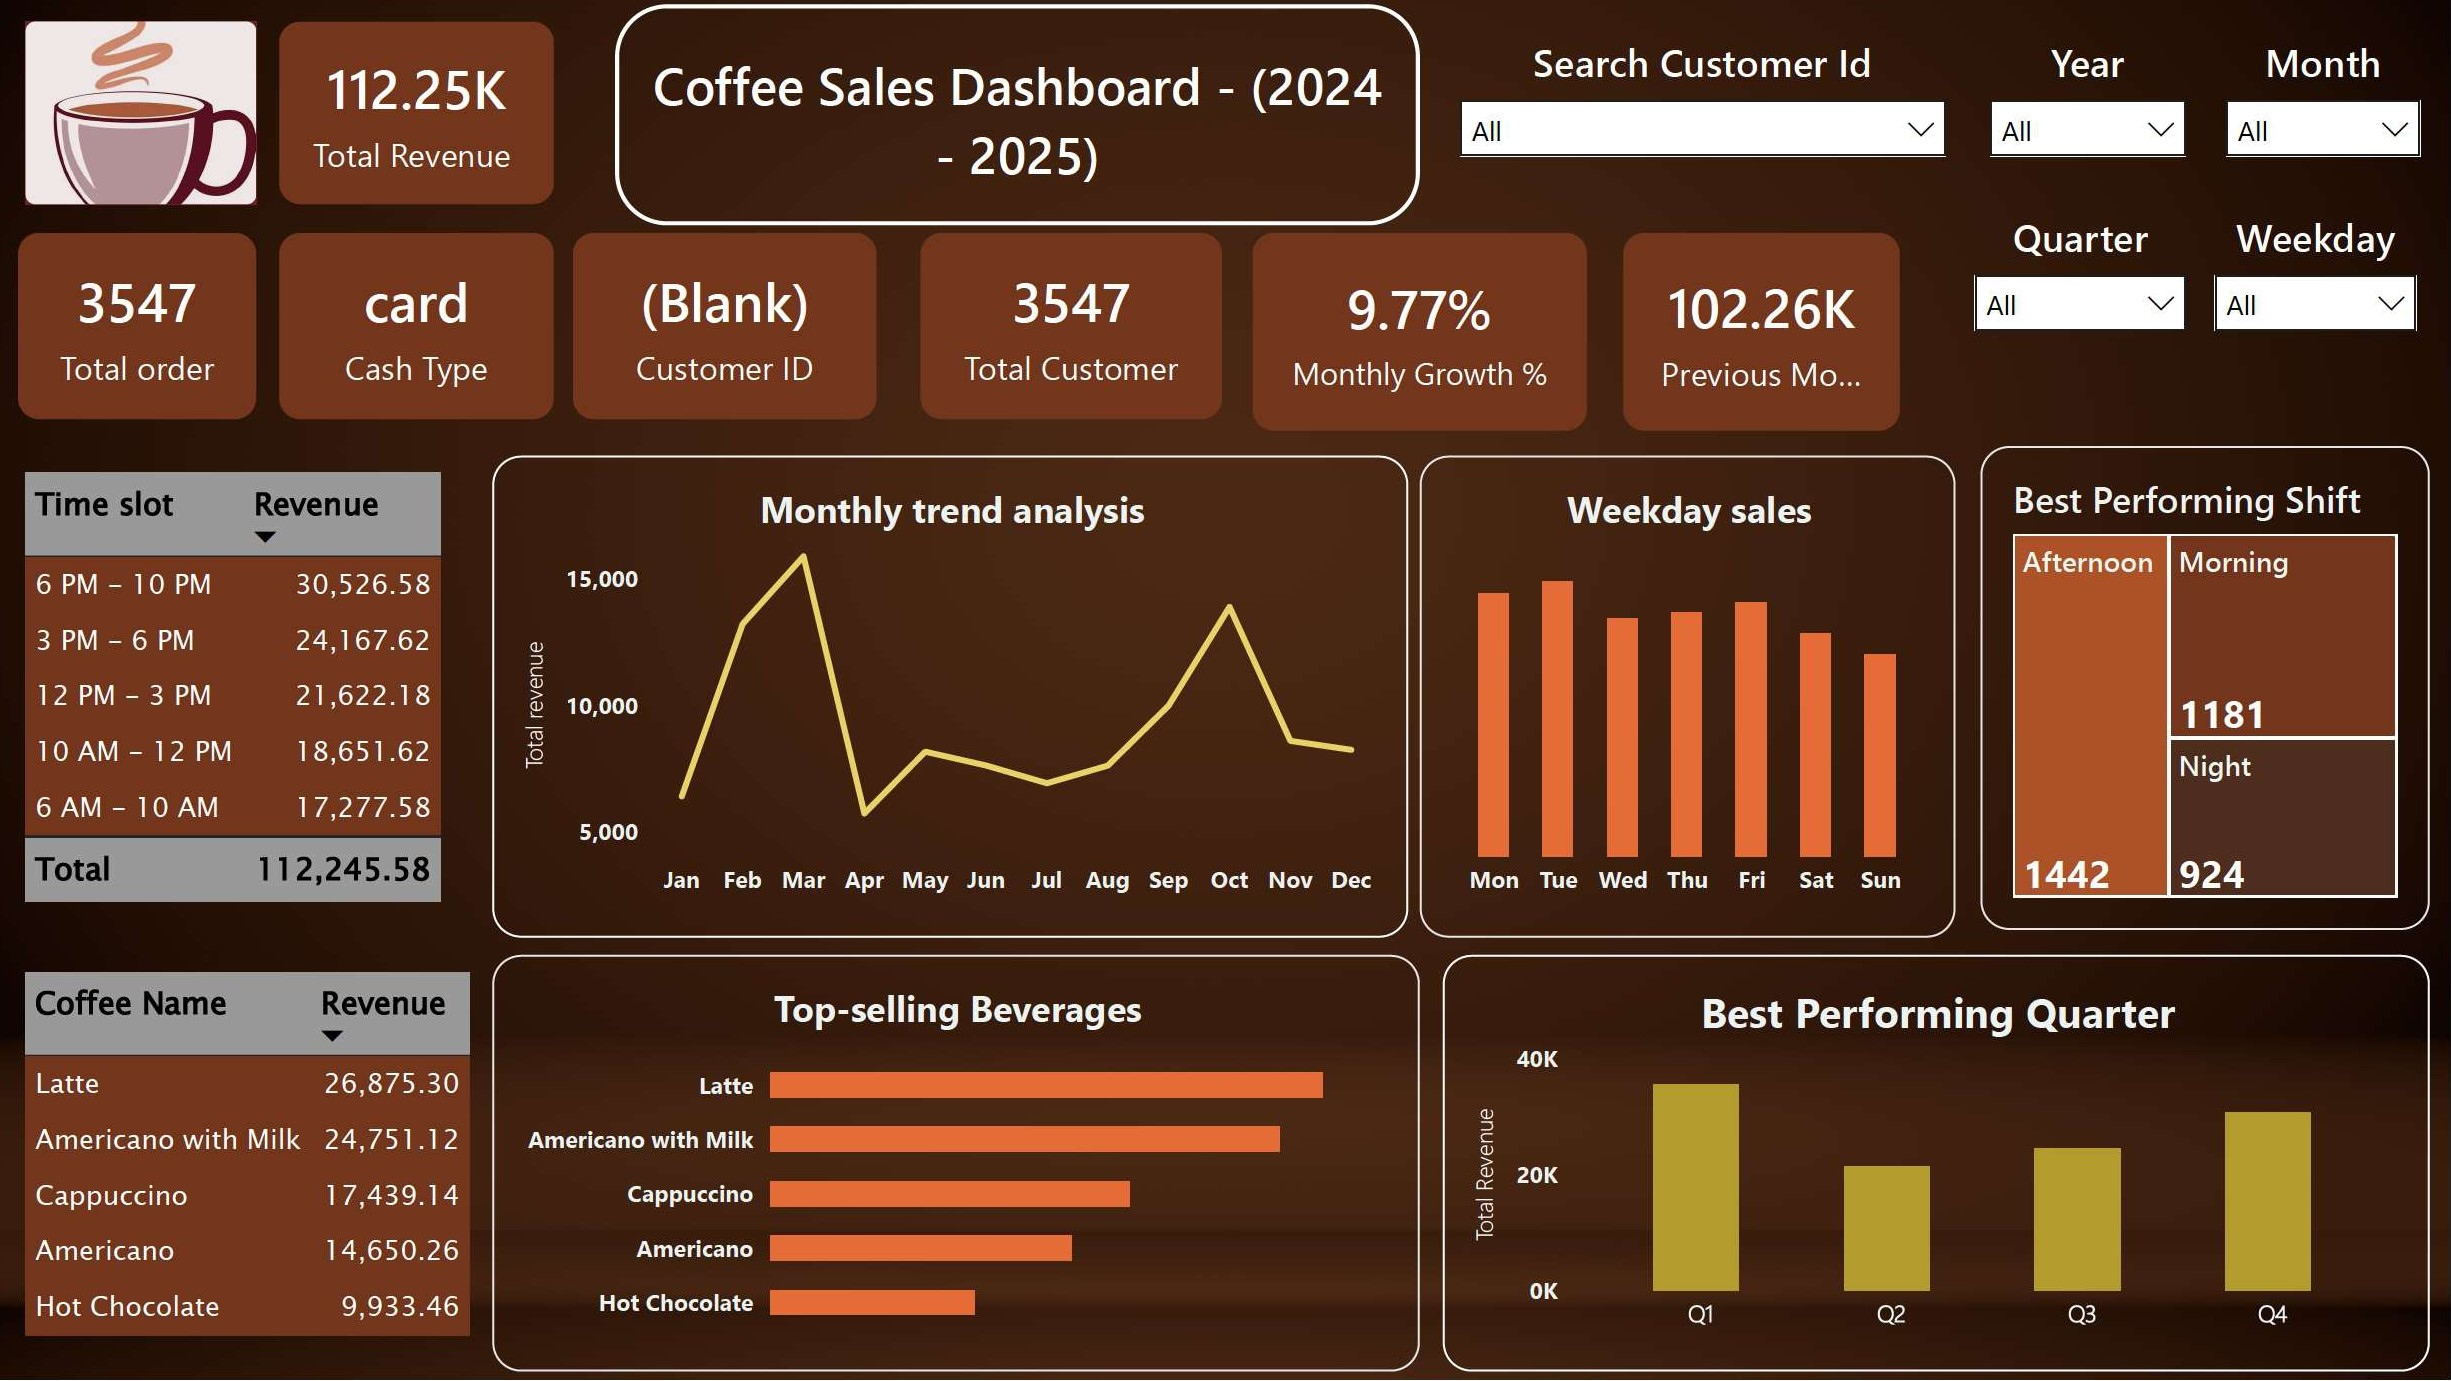

The page's visual inventory and layout, read from the dashboard file:
{"tool":"powerbi","page":{"name":"Coffe sales dashboard","canvas":[1280,720],"ordinal":0},"visuals":[{"type":"clusteredBarChart","title":" Top-selling Beverages","fields":{"Category":["coffee_sales coffee_sales.coffee_name"],"Y":["Sum(coffee_sales coffee_sales.money)"]},"box":[260.2,498.8,482.9,216.9],"z":0},{"type":"treemap","title":"Best Performing Shift","fields":{"Group":["coffee_sales coffee_sales.Shift"],"Values":["CountNonNull(coffee_sales coffee_sales.coffee_name)"]},"box":[1035.2,234.2,234.2,251.6],"z":1000},{"type":"areaChart","title":"Monthly trend analysis","fields":{"Y":["Sum(coffee_sales coffee_sales.money)"],"Category":["DateTable.Month Name"]},"box":[260.2,238.6,477.1,251.6],"z":2000},{"type":"card","fields":{"Values":["coffee_sales coffee_sales.Total order"]},"box":[13,122.9,124.3,96.9],"z":3000},{"type":"card","fields":{"Values":["Sum(coffee_sales coffee_sales.money)"]},"box":[148.9,13,143.1,95.4],"z":4000},{"type":"slicer","title":"Month","fields":{"Values":["DateTable.Month Name"]},"box":[1158.1,20.2,111.3,82.4],"z":5000},{"type":"card","fields":{"Values":["Min(coffee_sales coffee_sales.cash_type)"]},"box":[148.9,122.9,143.1,96.9],"z":6000},{"type":"slicer","title":"Weekday","fields":{"Values":["DateTable.Weekday Name"]},"box":[1152.3,111.3,114.2,82.4],"z":7000},{"type":"tableEx","fields":{"Values":["coffee_sales coffee_sales.Time slot","Sum(coffee_sales coffee_sales.money)"]},"box":[0,234.2,260.2,260.2],"z":8000},{"type":"image","box":[17.3,13,120,95.4],"z":9000},{"type":"slicer","title":"Search Customer Id ","fields":{"Values":["coffee_sales coffee_sales.serial_no"]},"box":[759,20.2,263.1,68],"z":10000},{"type":"card","fields":{"Values":["coffee_sales coffee_sales.Customer ID"]},"box":[302.2,122.9,157.6,96.9],"z":11000},{"type":"tableEx","fields":{"Values":["coffee_sales coffee_sales.coffee_name","Sum(coffee_sales coffee_sales.money)"]},"box":[0,494.5,271.8,225.5],"z":12000},{"type":"card","fields":{"Values":["coffee_sales coffee_sales.Total Customer"]},"box":[482.9,122.9,157.6,96.9],"z":13000},{"type":"clusteredColumnChart","title":"Weekday sales","fields":{"Y":["Sum(coffee_sales coffee_sales.money)"],"Category":["DateTable.Weekday Name"]},"box":[743.1,238.6,279,251.6],"z":14000},{"type":"card","fields":{"Values":["coffee_sales coffee_sales.Dashboard Title"]},"box":[323.9,4.3,419.3,114.2],"z":15000},{"type":"card","fields":{"Values":["coffee_sales coffee_sales.MoM Growth %"]},"box":[656.4,122.9,173.5,102.7],"z":16000},{"type":"card","fields":{"Values":["coffee_sales coffee_sales.Previous Month Revenue"]},"box":[848.7,122.9,144.6,102.7],"z":17000},{"type":"slicer","title":"Year","fields":{"Values":["DateTable.Year"]},"box":[1035.2,20.2,111.3,79.5],"z":18000},{"type":"slicer","title":"Quarter","fields":{"Values":["DateTable.Quarter"]},"box":[1026.5,111.3,120,78.1],"z":19000},{"type":"columnChart","title":"Best Performing Quarter","fields":{"Category":["DateTable.Quarter"],"Y":["Sum(coffee_sales coffee_sales.money)"]},"box":[754.7,498.8,514.7,216.9],"z":20000}]}

Visuals, with their boxes in screenshot pixels (x1, y1, x2, y2), scaled from the page's 1280x720 canvas onto the 2451x1381 screenshot:
" Top-selling Beverages" clusteredBarChart: box=[498, 957, 1423, 1373]
"Best Performing Shift" treemap: box=[1982, 449, 2431, 932]
"Monthly trend analysis" areaChart: box=[498, 458, 1412, 940]
card - coffee_sales coffee_sales.Total order: box=[25, 236, 263, 422]
card - Sum(coffee_sales coffee_sales.money): box=[285, 25, 559, 208]
"Month" slicer: box=[2218, 39, 2431, 197]
card - Min(coffee_sales coffee_sales.cash_type): box=[285, 236, 559, 422]
"Weekday" slicer: box=[2206, 213, 2425, 372]
tableEx - coffee_sales coffee_sales.Time slot x Sum(coffee_sales coffee_sales.money): box=[0, 449, 498, 948]
image: box=[33, 25, 263, 208]
"Search Customer Id " slicer: box=[1453, 39, 1957, 169]
card - coffee_sales coffee_sales.Customer ID: box=[579, 236, 880, 422]
tableEx - coffee_sales coffee_sales.coffee_name x Sum(coffee_sales coffee_sales.money): box=[0, 948, 520, 1380]
card - coffee_sales coffee_sales.Total Customer: box=[925, 236, 1226, 422]
"Weekday sales" clusteredColumnChart: box=[1423, 458, 1957, 940]
card - coffee_sales coffee_sales.Dashboard Title: box=[620, 8, 1423, 227]
card - coffee_sales coffee_sales.MoM Growth %: box=[1257, 236, 1589, 433]
card - coffee_sales coffee_sales.Previous Month Revenue: box=[1625, 236, 1902, 433]
"Year" slicer: box=[1982, 39, 2195, 191]
"Quarter" slicer: box=[1966, 213, 2195, 363]
"Best Performing Quarter" columnChart: box=[1445, 957, 2431, 1373]
